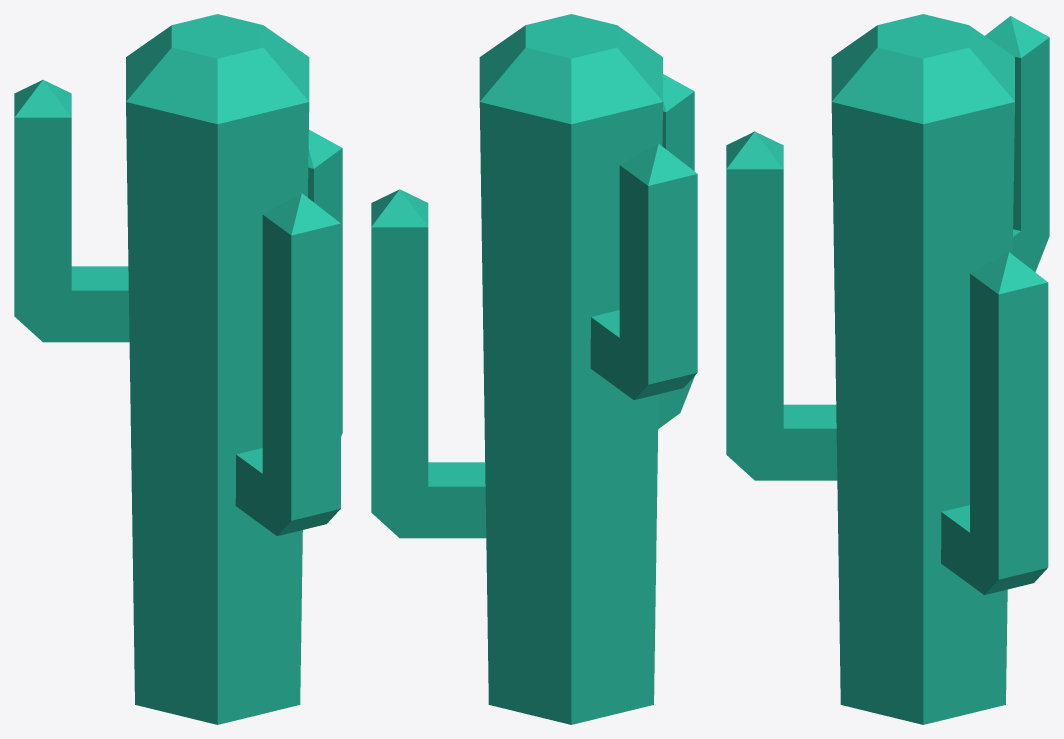
File: cactus-tall.glb
The picture shows the model from 3 angles, left to right: view 1: azimuth 30°, elevation 25°; view 2: azimuth 150°, elevation 25°; view 3: azimuth 270°, elevation 25°; orthographic projection.
Visible parts, largest first — view 1: cactus_tall; view 2: cactus_tall; view 3: cactus_tall.
Boxes of the visible parts, x1=… form: cactus_tall: x1=14, y1=14, x2=342, y2=724; cactus_tall: x1=371, y1=14, x2=697, y2=724; cactus_tall: x1=726, y1=14, x2=1049, y2=724.
Size of the model in its own units: 0.3962 by 0.75 by 0.3391.
